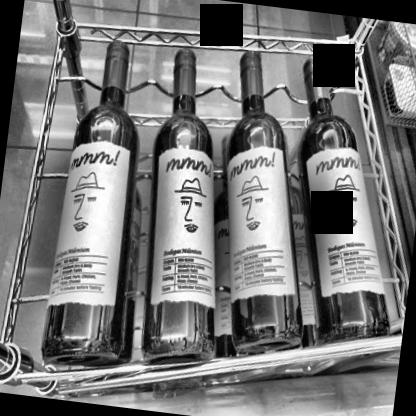umm: (286, 139, 404, 312), (212, 140, 312, 310), (140, 143, 234, 322), (47, 138, 133, 319)
